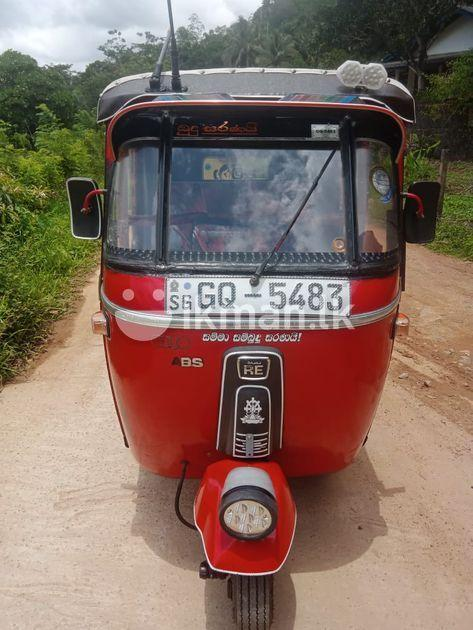threewheel: (64, 67, 442, 630)
